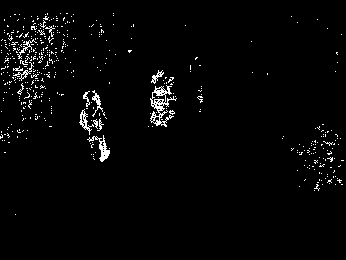person: (77, 91, 112, 162)
